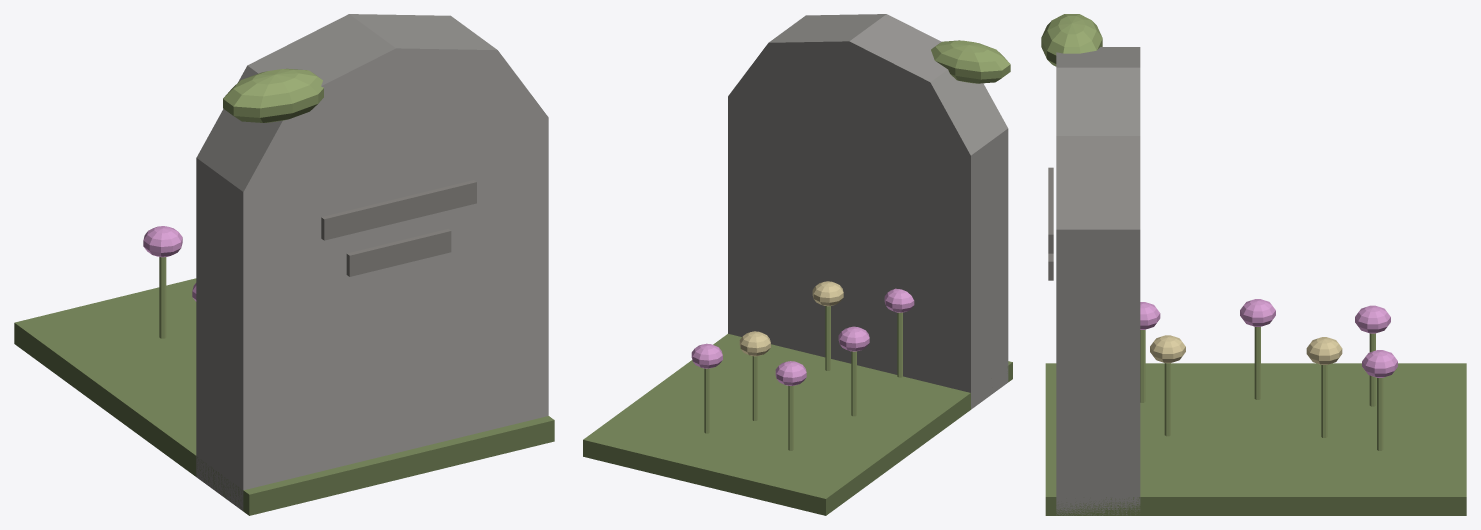
Rendered from GraveFlowers.fbx.
The picture shows the model from 3 angles, left to right: view 1: azimuth 30°, elevation 25°; view 2: azimuth 150°, elevation 25°; view 3: azimuth 270°, elevation 25°; orthographic projection. The views are drawn at different scales.
Parts seen in each view (by area): view 1: Prop_GraveFlowers; view 2: Prop_GraveFlowers; view 3: Prop_GraveFlowers.
Part boxes in pixels (x1,y1,x2,y2): Prop_GraveFlowers: [14, 14, 554, 515]; Prop_GraveFlowers: [583, 14, 1012, 515]; Prop_GraveFlowers: [1041, 14, 1466, 515].
Bounding box in the file's own units: 0.6127 × 0.8 × 0.8085.
